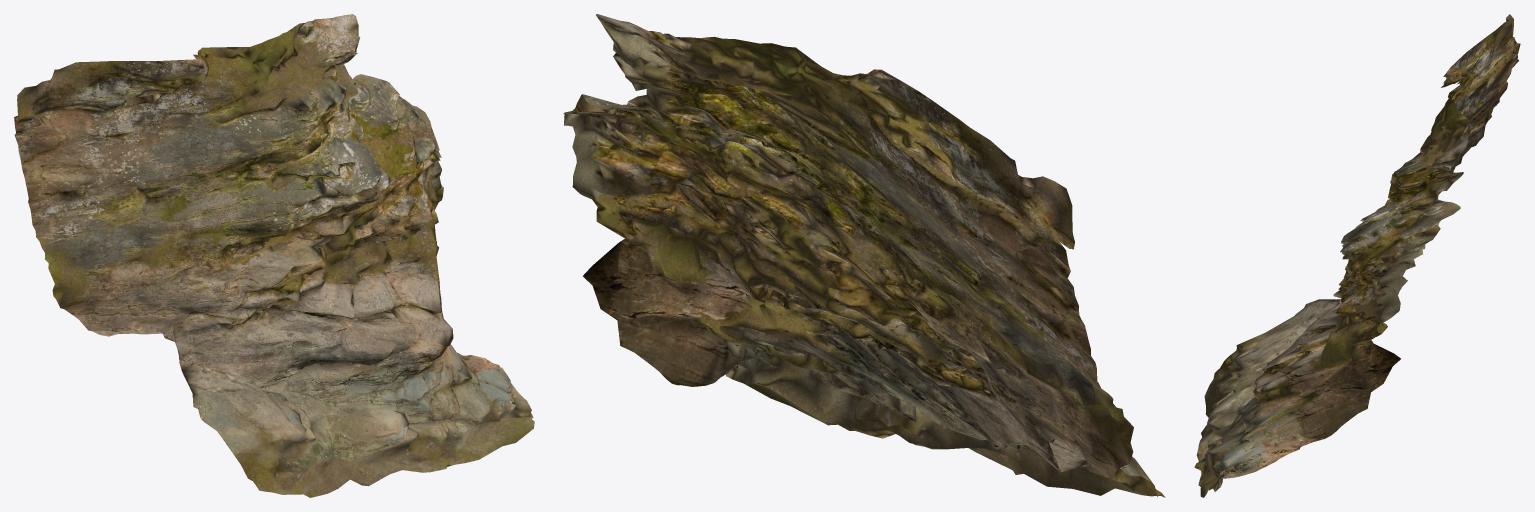
Rendered from rock_face_02.glb.
The picture shows the model from 3 angles, left to right: view 1: azimuth 30°, elevation 25°; view 2: azimuth 150°, elevation 25°; view 3: azimuth 270°, elevation 25°; orthographic projection. The views are drawn at different scales.
Visible parts, largest first — view 1: rock_face_02; view 2: rock_face_02; view 3: rock_face_02.
Part boxes in pixels (x1,y1,x2,y2): rock_face_02: [14, 14, 534, 497]; rock_face_02: [563, 14, 1165, 497]; rock_face_02: [1194, 14, 1520, 497].
Bounding box in the file's own units: 2.71 × 2.47 × 2.13.
1 material, 1 textured.
